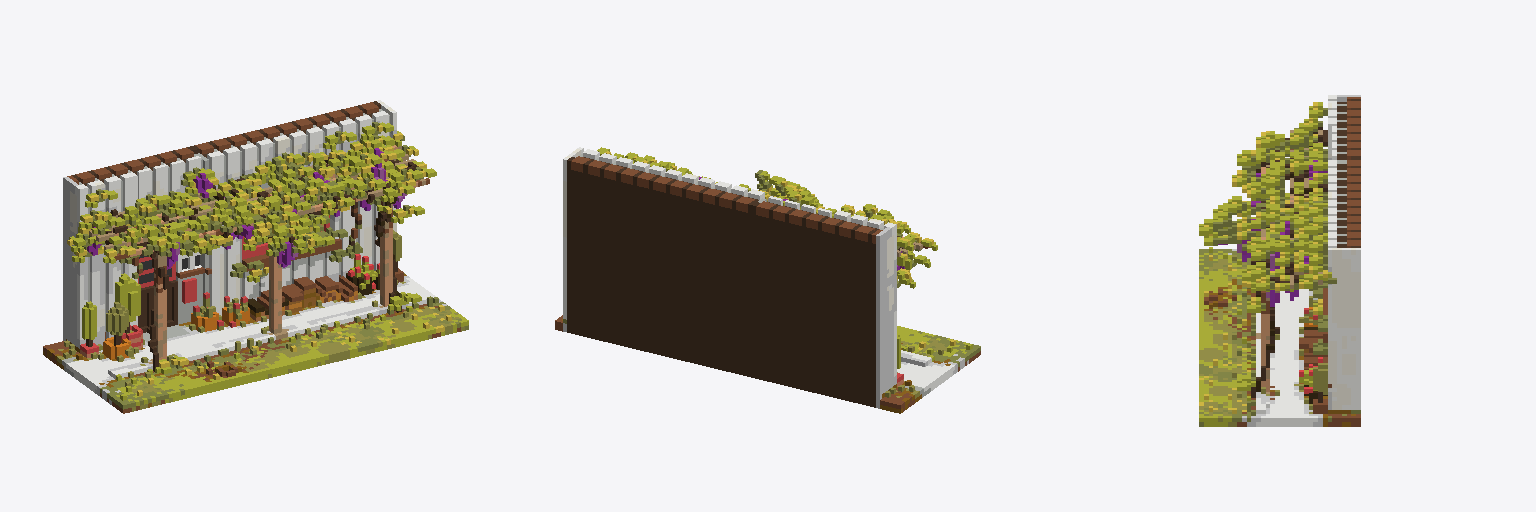
3 views of the same model, side by side, from view 1: azimuth 30°, elevation 25°; view 2: azimuth 150°, elevation 25°; view 3: azimuth 270°, elevation 25° (orthographic).
Bounding box in the file's own units: 84 × 40 × 34.
1 materials, 1 textured.